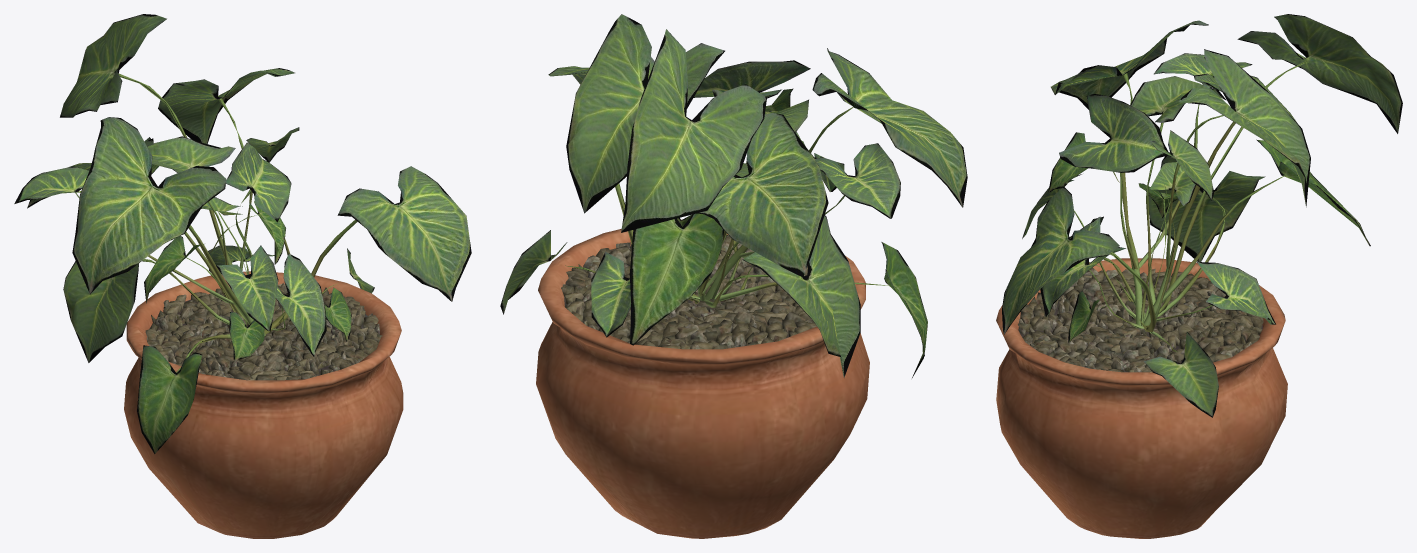
File: potted_plant_02.lod1.glb
3 views of the same model, side by side, from view 1: azimuth 30°, elevation 25°; view 2: azimuth 150°, elevation 25°; view 3: azimuth 270°, elevation 25° (orthographic). The views are drawn at different scales.
Parts seen in each view (by area): view 1: potted_plant_02_leaves, potted_plant_02_pot, potted_plant_02_dirt; view 2: potted_plant_02_leaves, potted_plant_02_pot, potted_plant_02_dirt; view 3: potted_plant_02_leaves, potted_plant_02_pot, potted_plant_02_dirt.
Boxes of the visible parts, box(x1,y1,x2,y2) form: potted_plant_02_leaves: box(14, 14, 471, 453); potted_plant_02_pot: box(124, 271, 403, 538); potted_plant_02_dirt: box(145, 283, 382, 380); potted_plant_02_leaves: box(500, 14, 967, 377); potted_plant_02_pot: box(536, 219, 869, 538); potted_plant_02_dirt: box(561, 235, 816, 349); potted_plant_02_leaves: box(1002, 14, 1402, 417); potted_plant_02_pot: box(996, 258, 1287, 538); potted_plant_02_dirt: box(1018, 267, 1263, 372).
Size of the model in its own units: 0.7007 by 0.8378 by 0.6527.
Materials: 2 (2 with a texture image).
